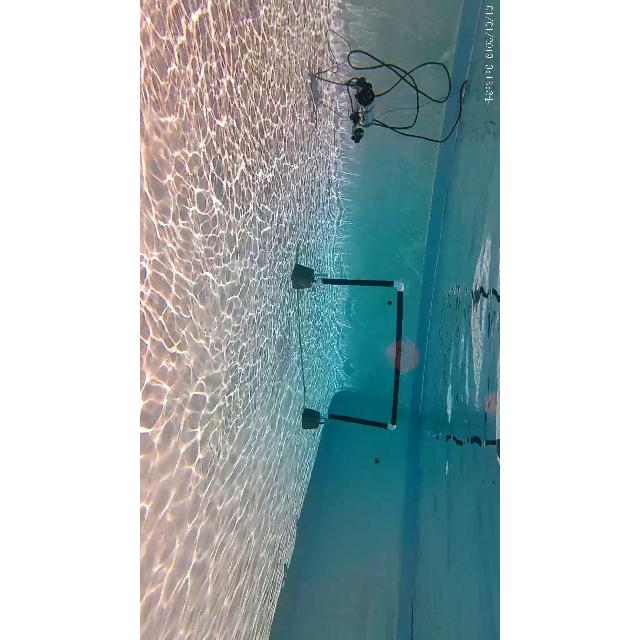prequal gate: (316, 274, 408, 434)
prequal gate leg l: (314, 270, 406, 298)
prequal gate leg r: (316, 406, 408, 436)
